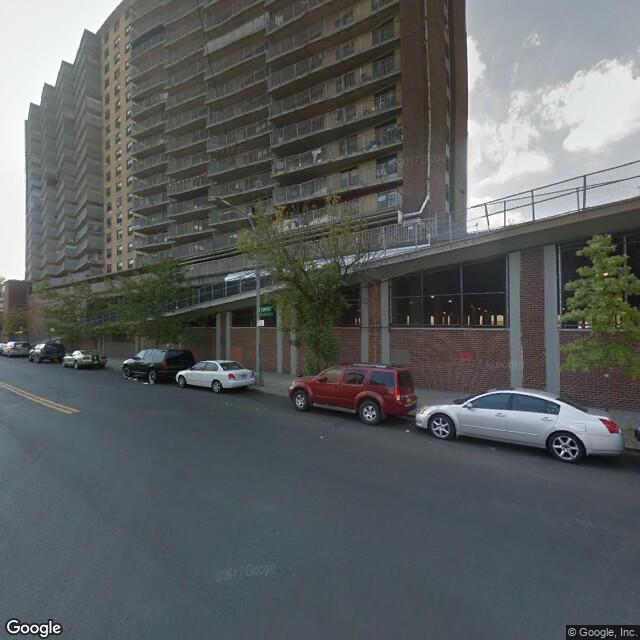litter: (477, 436, 508, 457), (127, 372, 155, 390), (311, 429, 332, 443), (399, 418, 415, 436), (220, 398, 239, 407)
